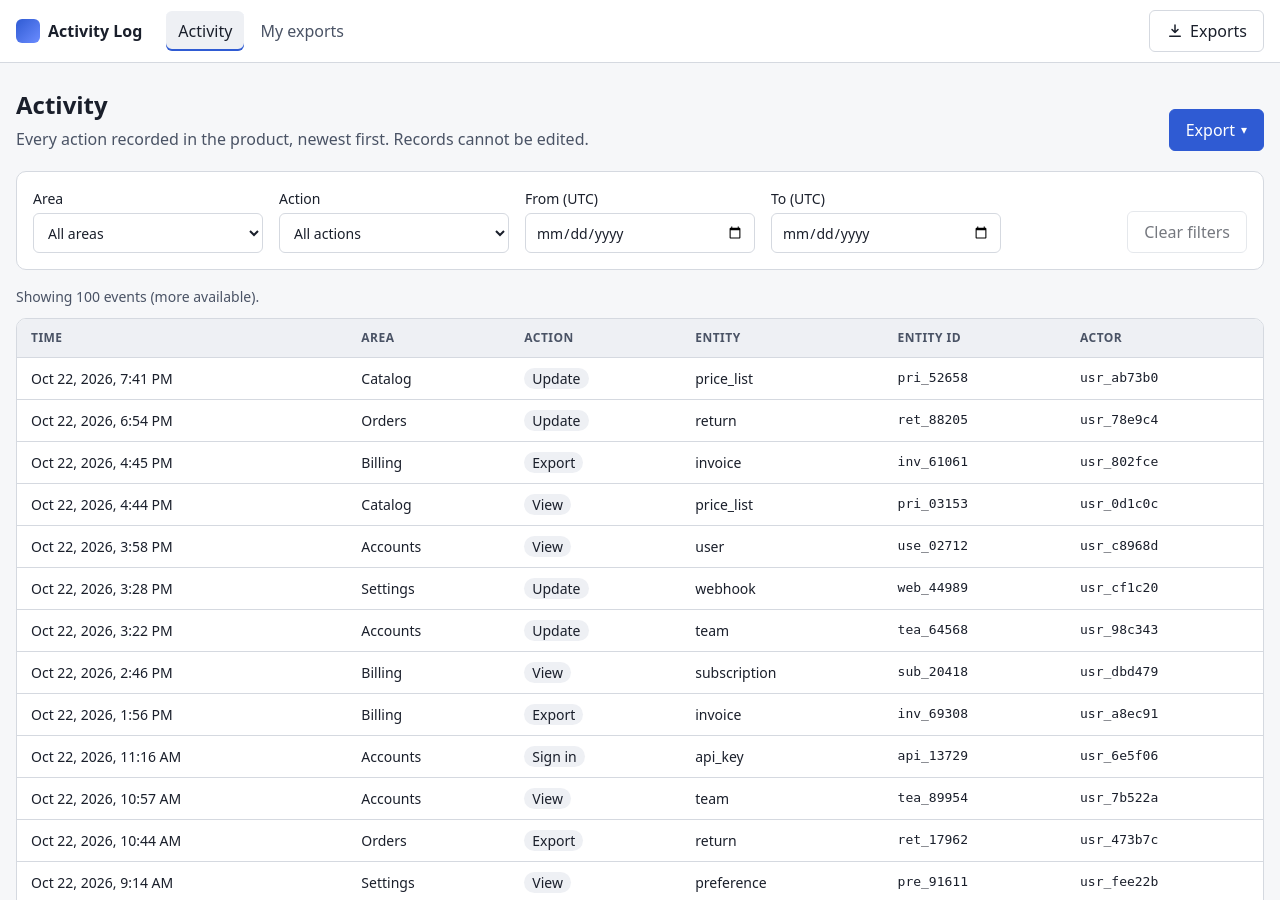
Exports tray › shows an empty state when there are no exports
Click the button with aria-label "Open my exports": point(1207, 31) [1149, 10, 1264, 52]
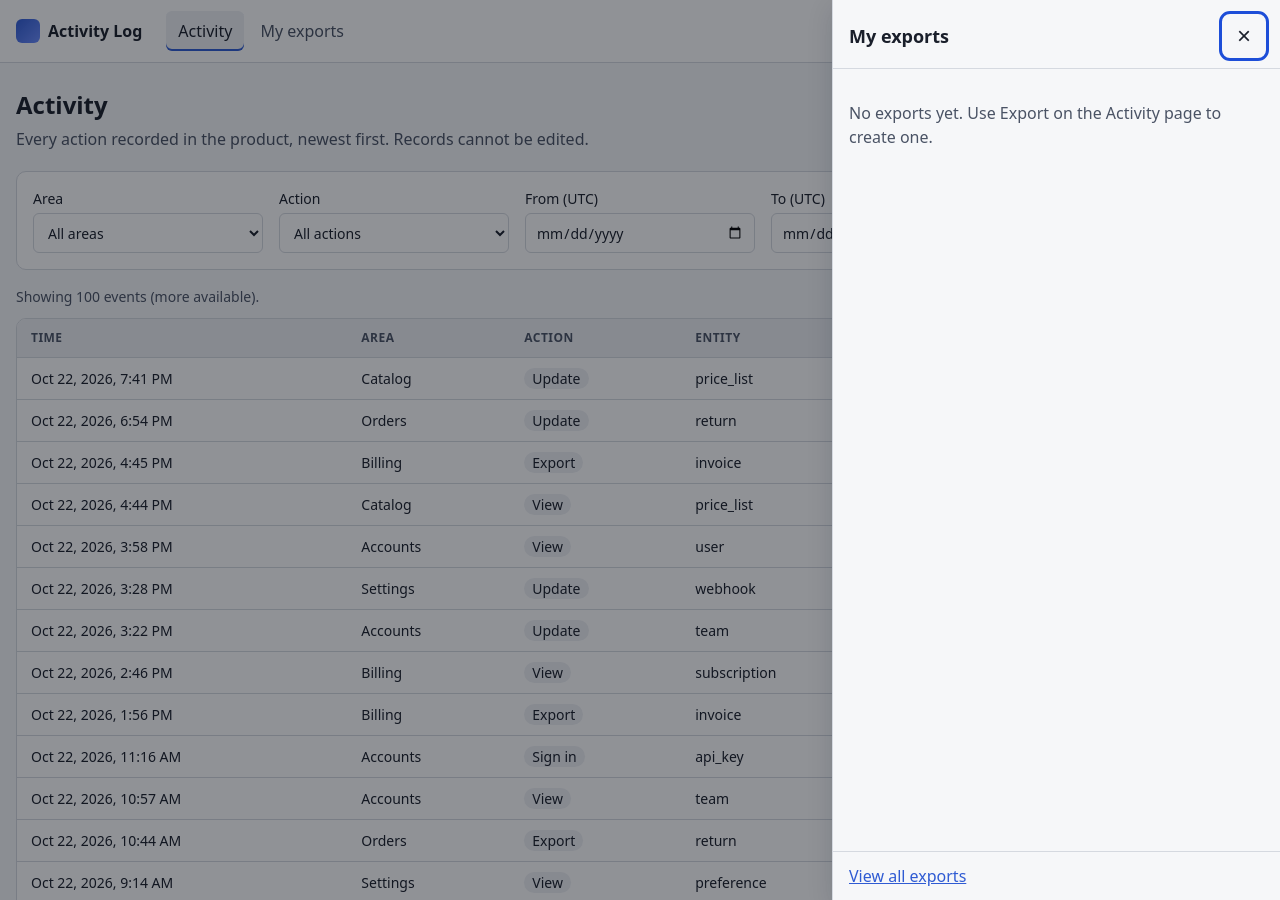
Expected: the text "No exports yet" is shown, [849, 102, 1221, 148]
